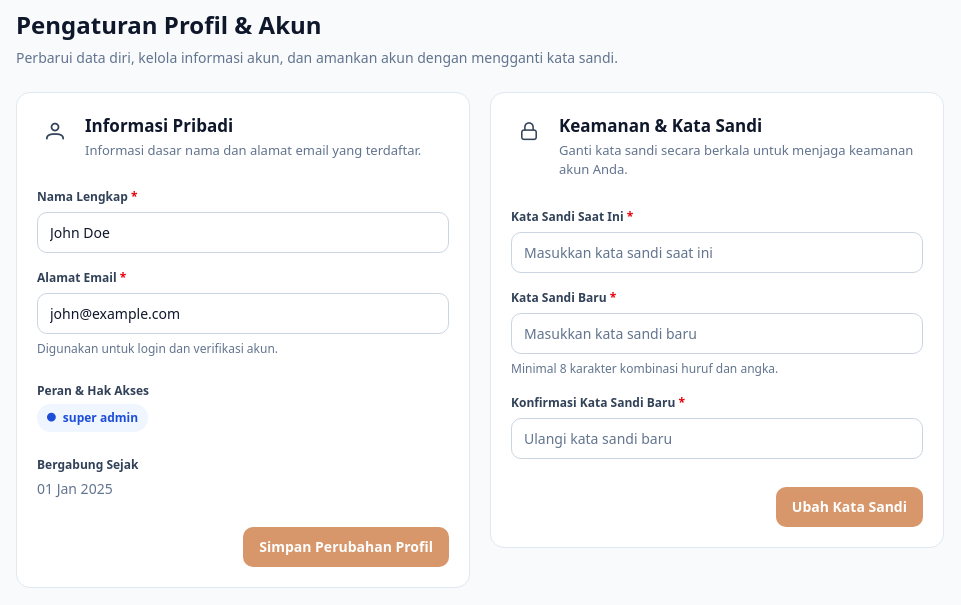
Test: ProfilePage › validates password match on client before submitting
Type "secret123" into the password field with test id "profile-current-password-input". click: x=717, y=252
box: [511, 232, 923, 272]
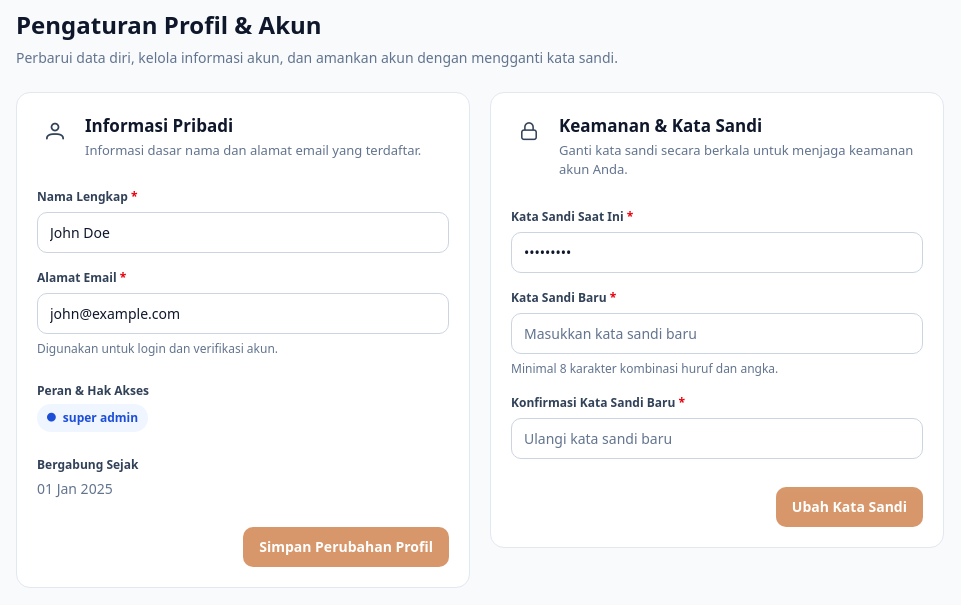
Type "newsecret123" into the password field with test id "profile-new-password-input". click: x=717, y=333
box: [511, 312, 923, 354]
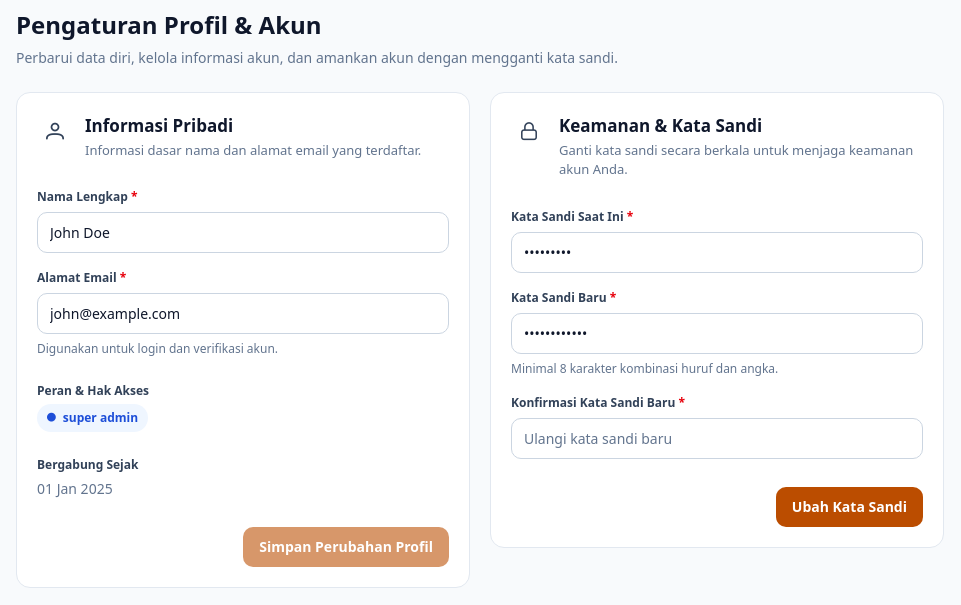
Type "differentsecret123" into the password field with test id "profile-password-confirmation-input". click: x=717, y=438
box: [511, 418, 923, 458]
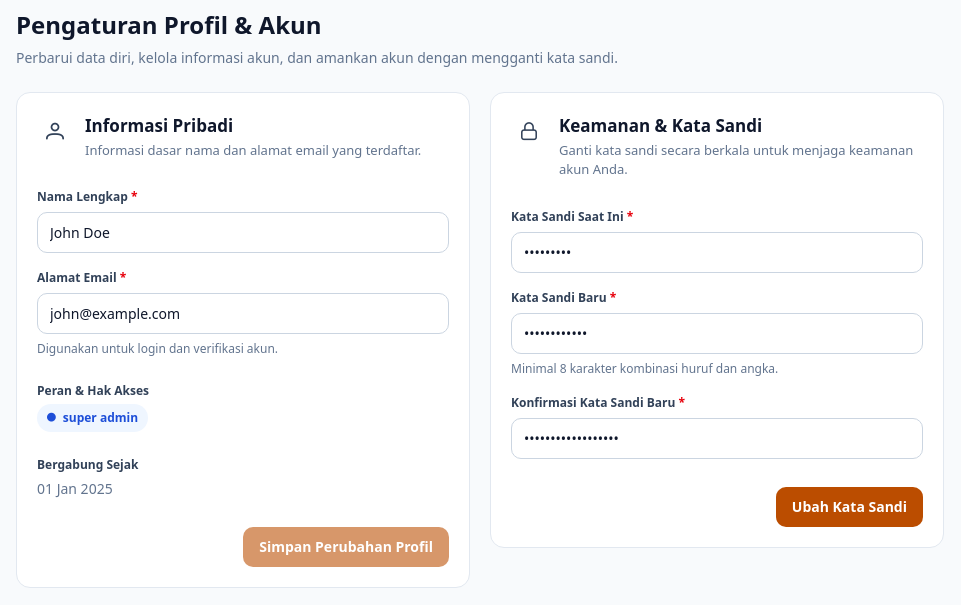
Submit the form that starts with "Kata Sandi Saat Ini", box [511, 208, 923, 526]
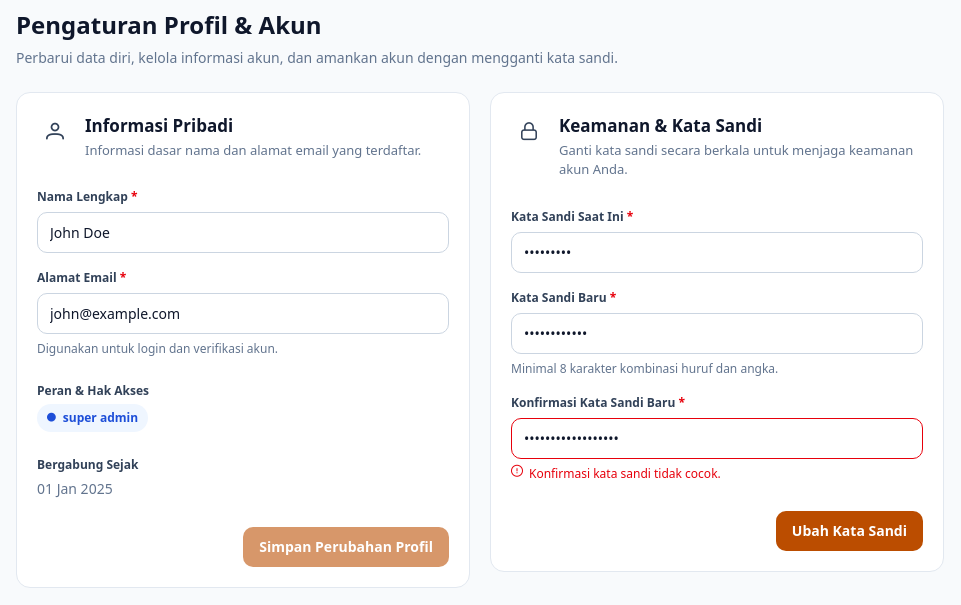
Expected: the text "Konfirmasi kata sandi tidak cocok." is shown, [511, 464, 721, 482]
